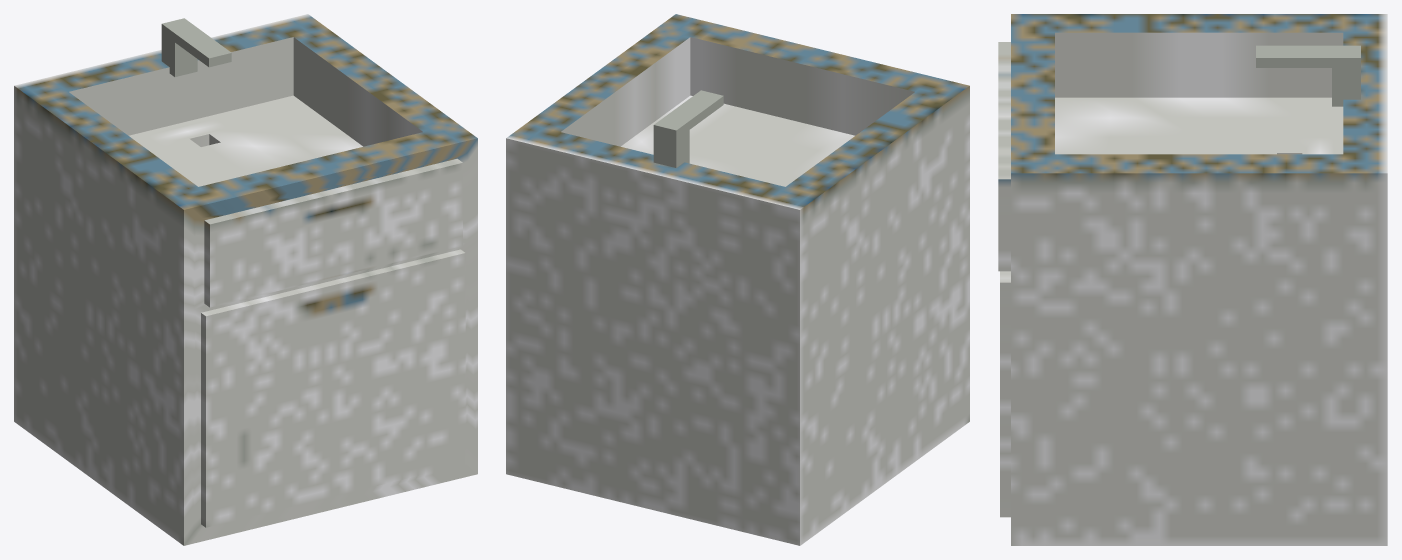
Rendered from kitchenshink.fbx.
3 renders of one model, left to right at view 1: azimuth 30°, elevation 25°; view 2: azimuth 150°, elevation 25°; view 3: azimuth 270°, elevation 25°, orthographic. The views are drawn at different scales.
Visible parts, largest first — view 1: sink; view 2: sink; view 3: sink.
Part boxes in pixels (<box>): sink: <box>14,14,477,545</box>; sink: <box>506,14,969,545</box>; sink: <box>998,14,1387,545</box>.
Bounding box in the file's own units: 84.45 × 103 × 87.24.
Materials: 1 (1 with a texture image).
